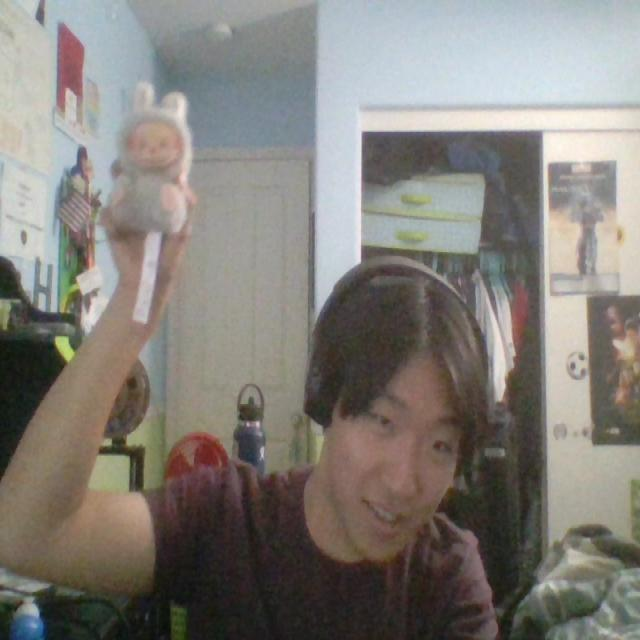labubu: (105, 83, 192, 233)
